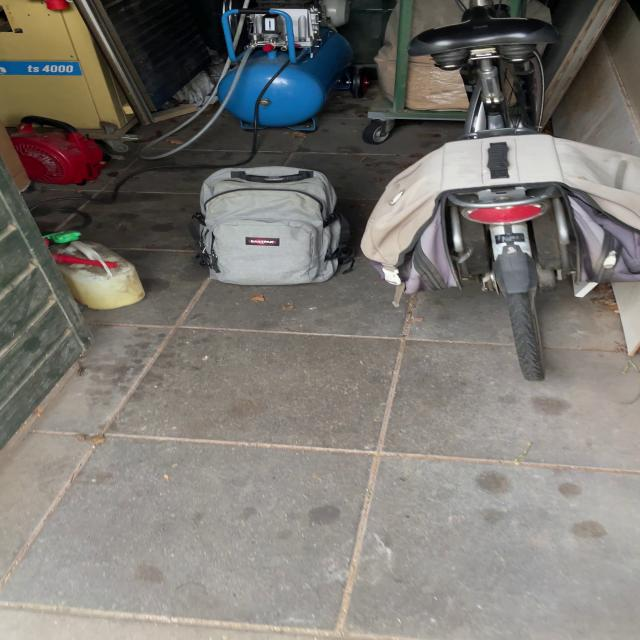backpack: (180, 162, 363, 290)
